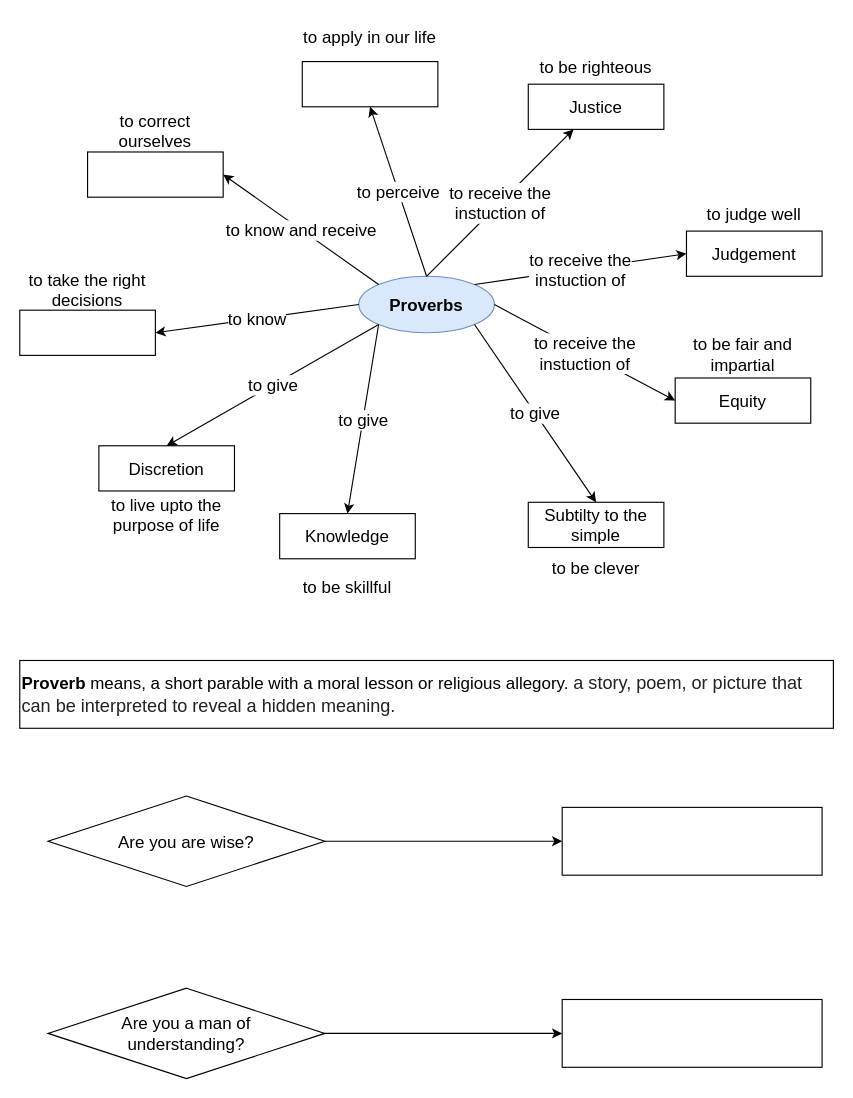
Some shapes in this 853 by 1098 pixel diagram are drawn without their labels. Each missing label, with the centre of its shape:
Attain wise counsel: (x=691, y=1032)
Increase learning: (x=691, y=840)
Instruction: (x=154, y=174)
Wisdom: (x=87, y=332)
Words of Understanding: (x=369, y=83)
